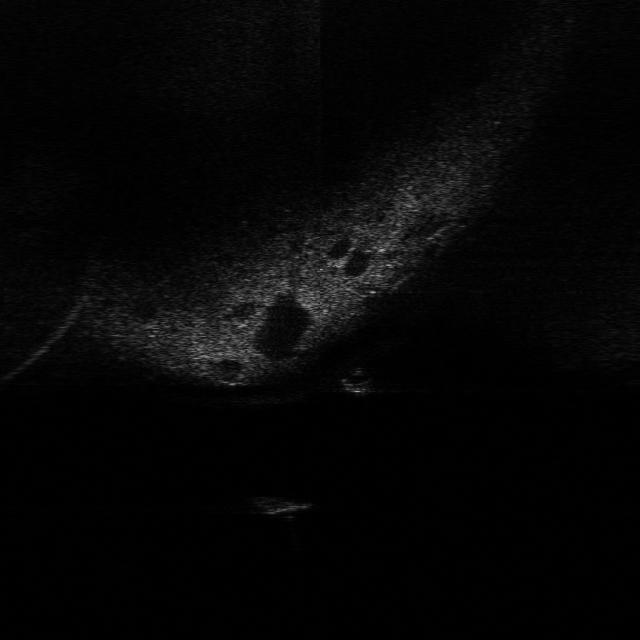ball: (342, 366, 379, 398)
cube: (247, 493, 317, 519)
